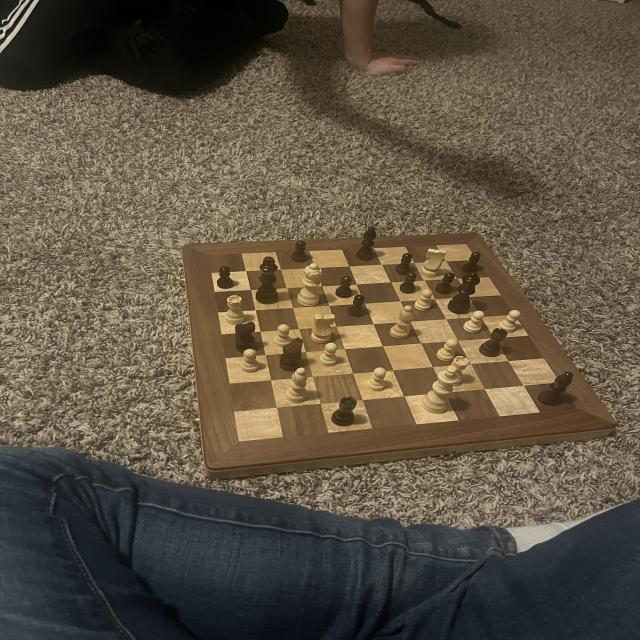bishop: (537, 370, 576, 408), (352, 225, 381, 262)
black-bishop: (252, 255, 283, 305)
black-king: (279, 336, 306, 372), (233, 321, 259, 352)
black-knight: (345, 293, 368, 319), (398, 271, 421, 295), (332, 274, 354, 299), (433, 272, 455, 296), (216, 265, 237, 290), (289, 239, 310, 264), (461, 251, 483, 274), (394, 252, 414, 276)
black-pawn: (446, 272, 484, 317)
black-queen: (477, 326, 509, 358), (330, 396, 358, 427)
black-rook: (384, 304, 417, 340), (284, 366, 312, 405)
white-bishop: (420, 364, 461, 414)
white-king: (420, 248, 448, 278), (311, 313, 337, 344)
white-knight: (238, 347, 262, 375), (434, 338, 462, 362), (365, 367, 391, 392), (317, 342, 342, 367), (498, 309, 524, 333), (462, 310, 486, 334), (413, 289, 436, 313), (273, 323, 294, 347)
white-pawn: (295, 262, 327, 309)
white-queen: (444, 355, 470, 387), (224, 294, 247, 325)
